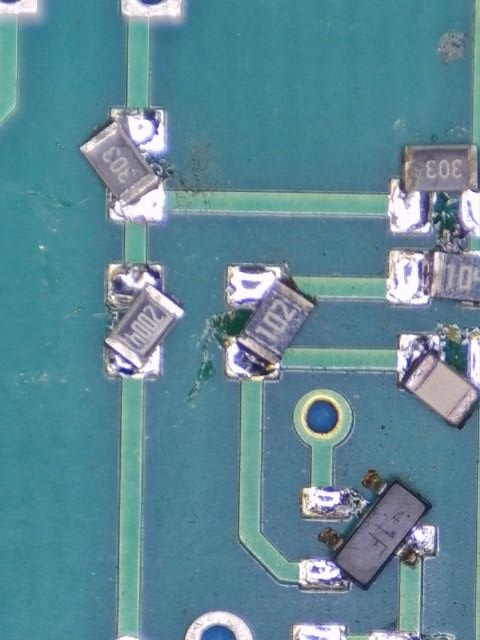pcb_defect: (299, 470, 439, 591), (223, 265, 317, 380), (77, 108, 166, 223), (103, 263, 185, 378), (397, 328, 480, 429), (389, 144, 480, 236), (387, 250, 480, 307)
